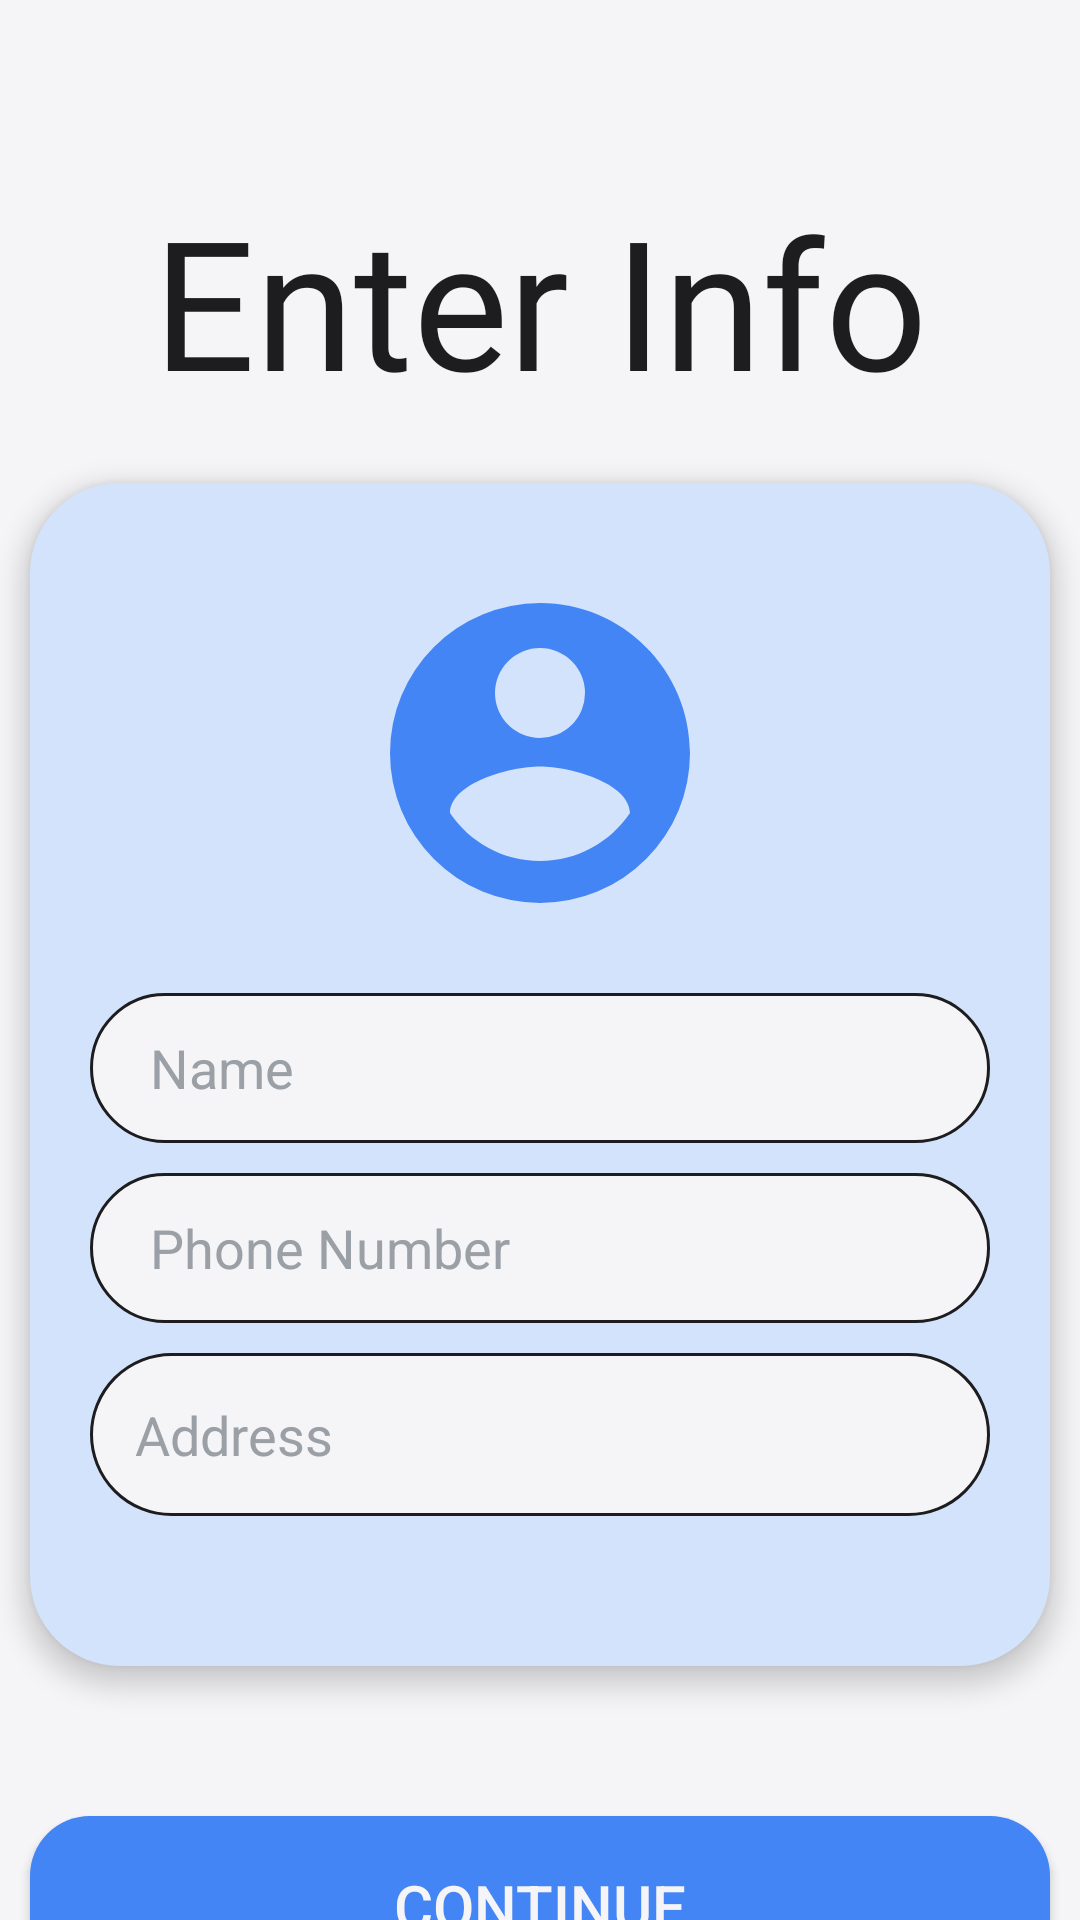

Where icons sit on this 1080×1920 app screen, as bbox=(x1, y1, x2, y2):
profile: bbox=(390, 603, 690, 903)
